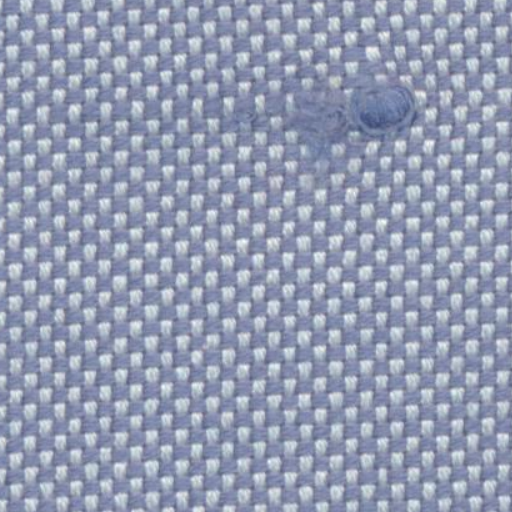MianQiu: (232, 44, 448, 176)
